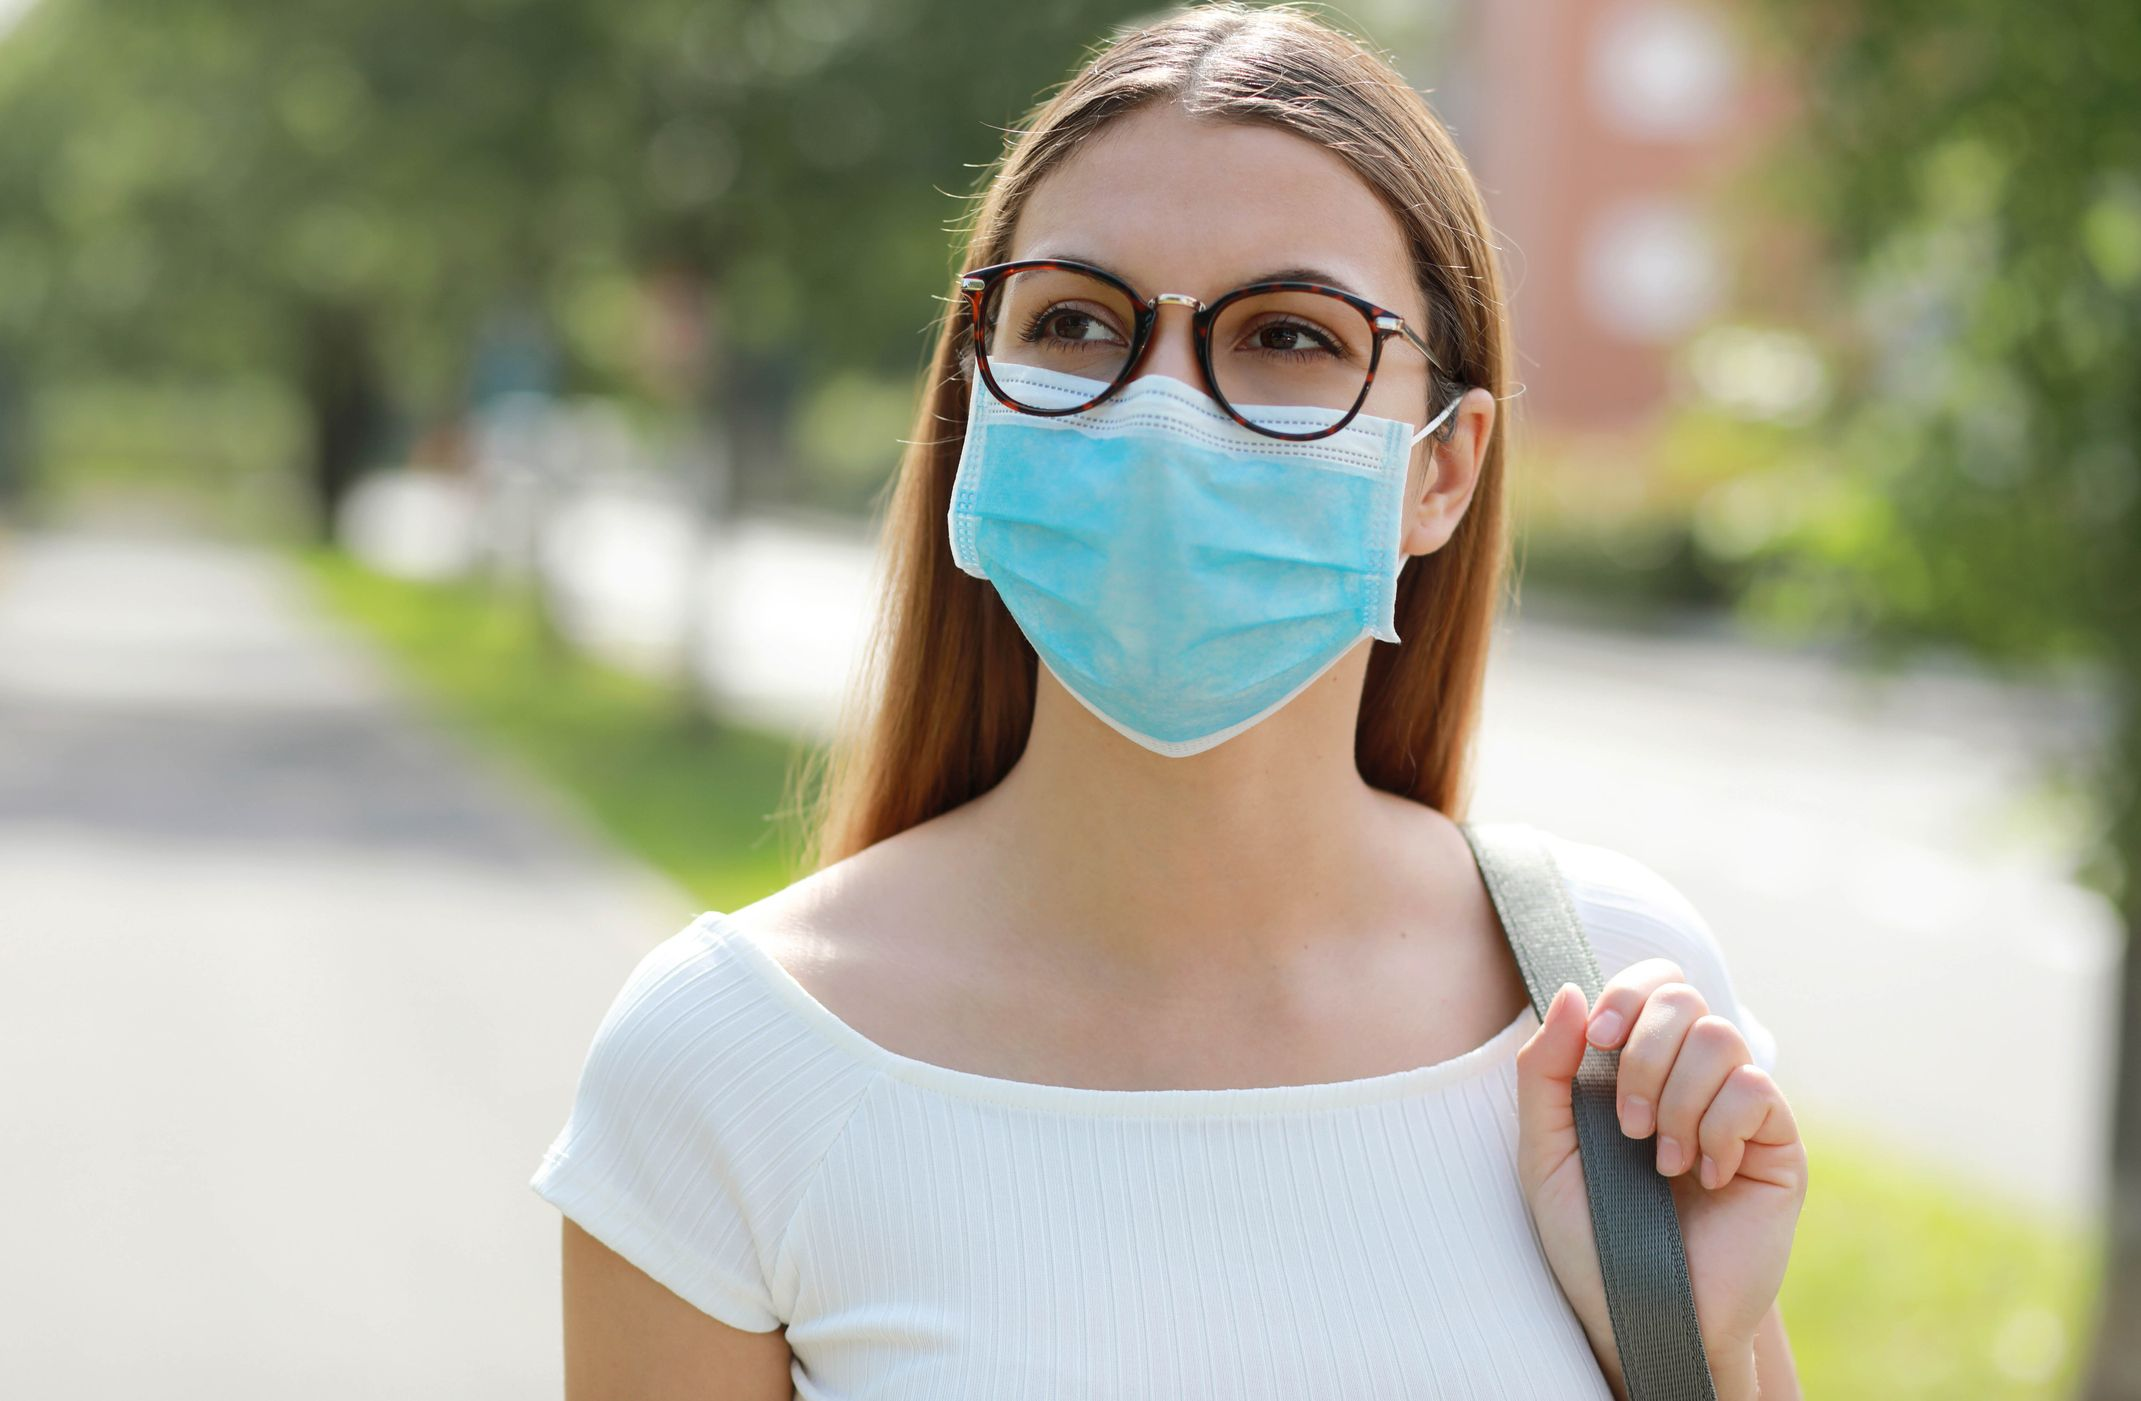with_mask: (980, 220, 1399, 686)
